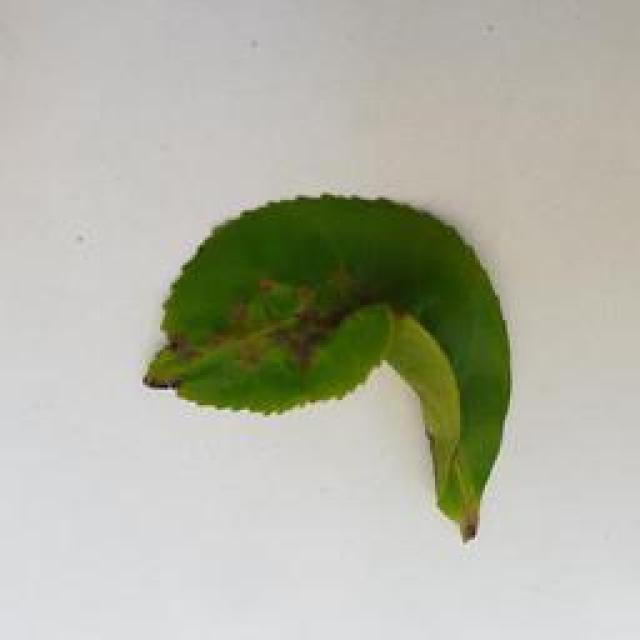Helopeltis: (132, 184, 540, 543)
